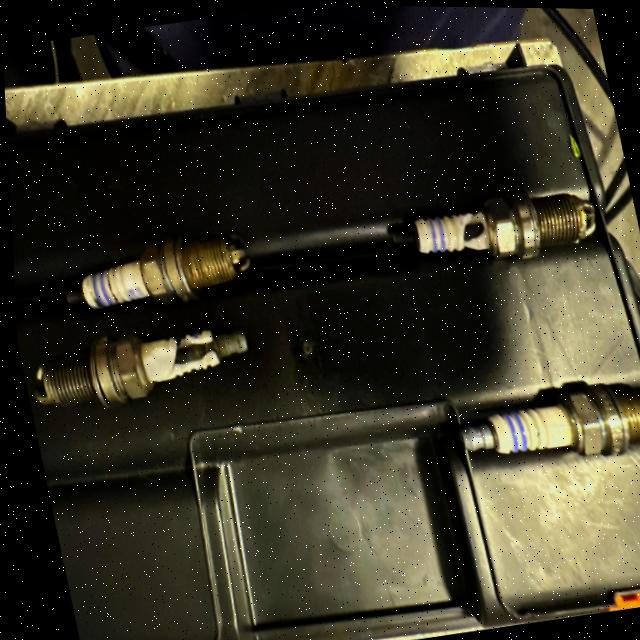damaged_spark-plug: (13, 310, 266, 435), (378, 179, 609, 277)
spark-plug: (440, 362, 640, 481), (40, 221, 260, 326)
